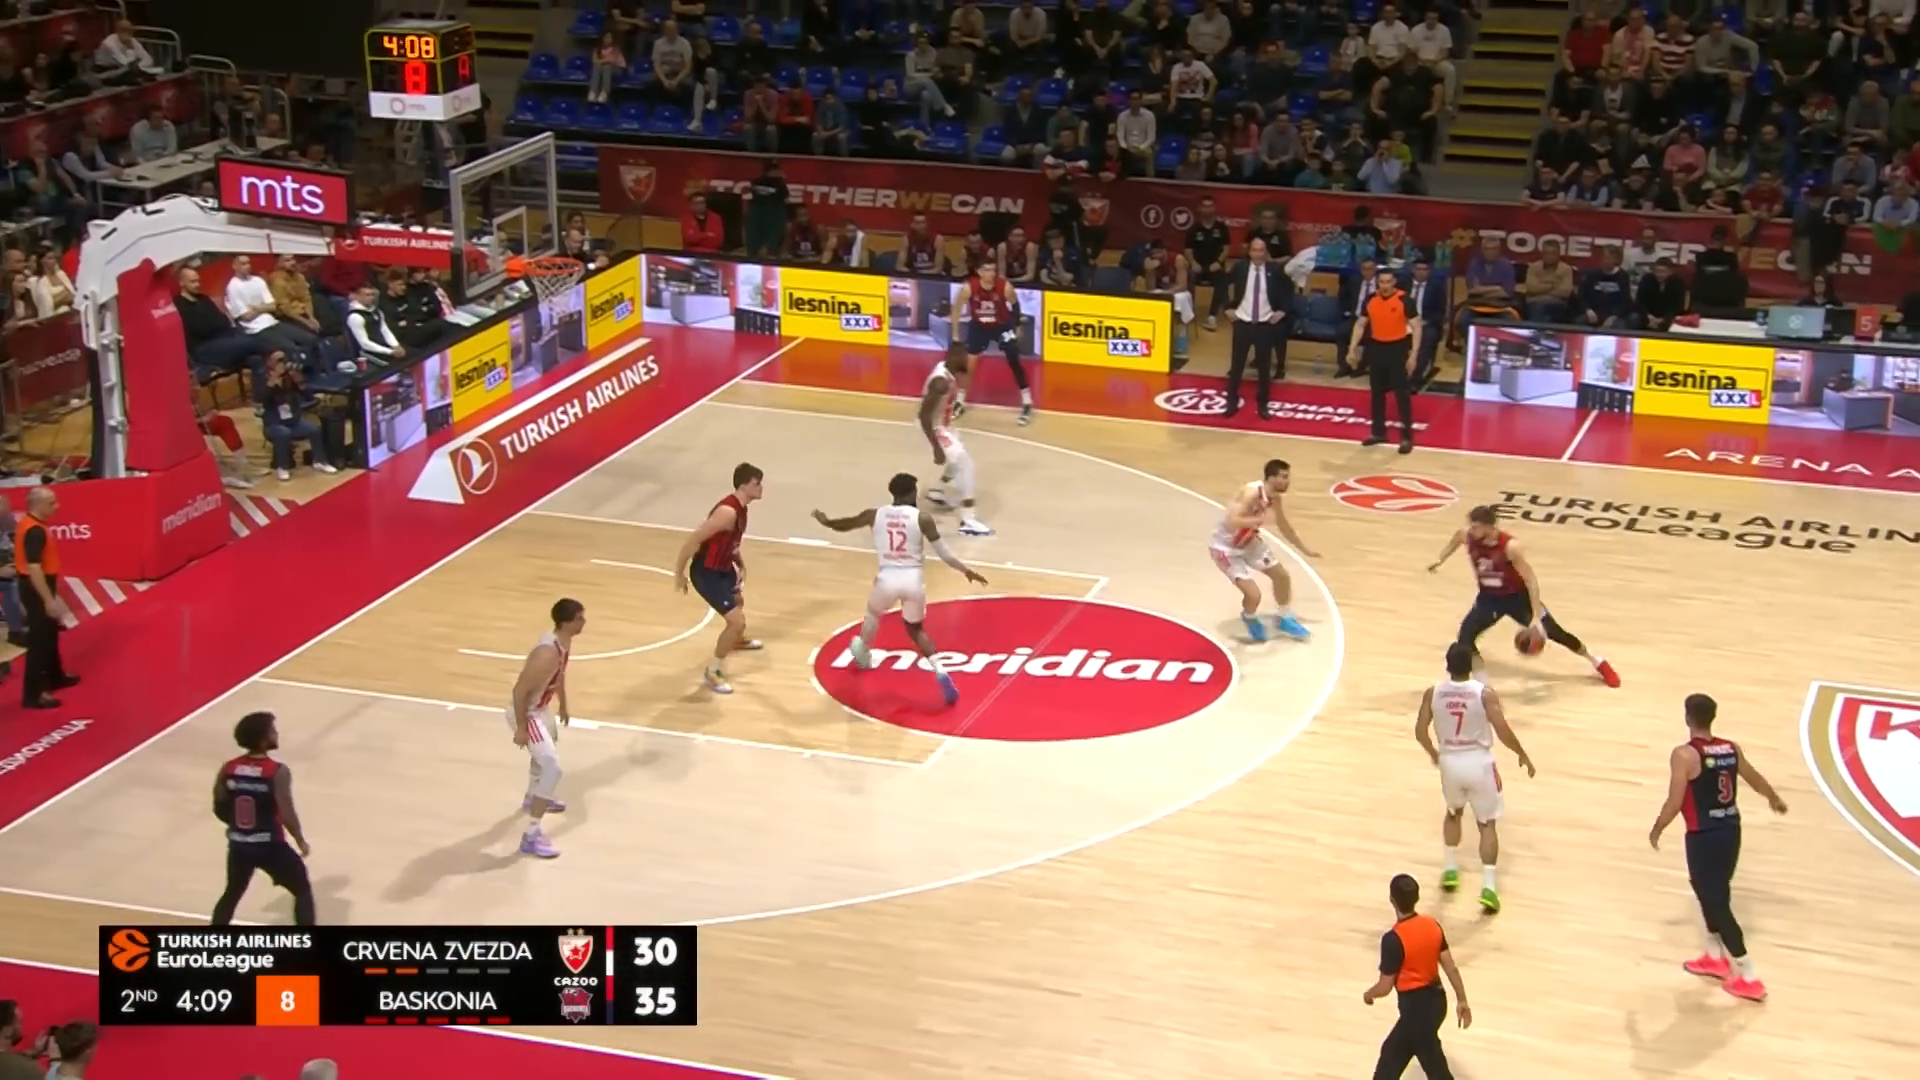ball: (1511, 625, 1548, 659)
net: (524, 255, 584, 316)
